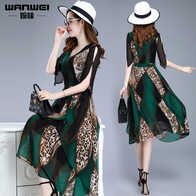C_dress: (22, 44, 101, 194), (119, 32, 190, 143)
